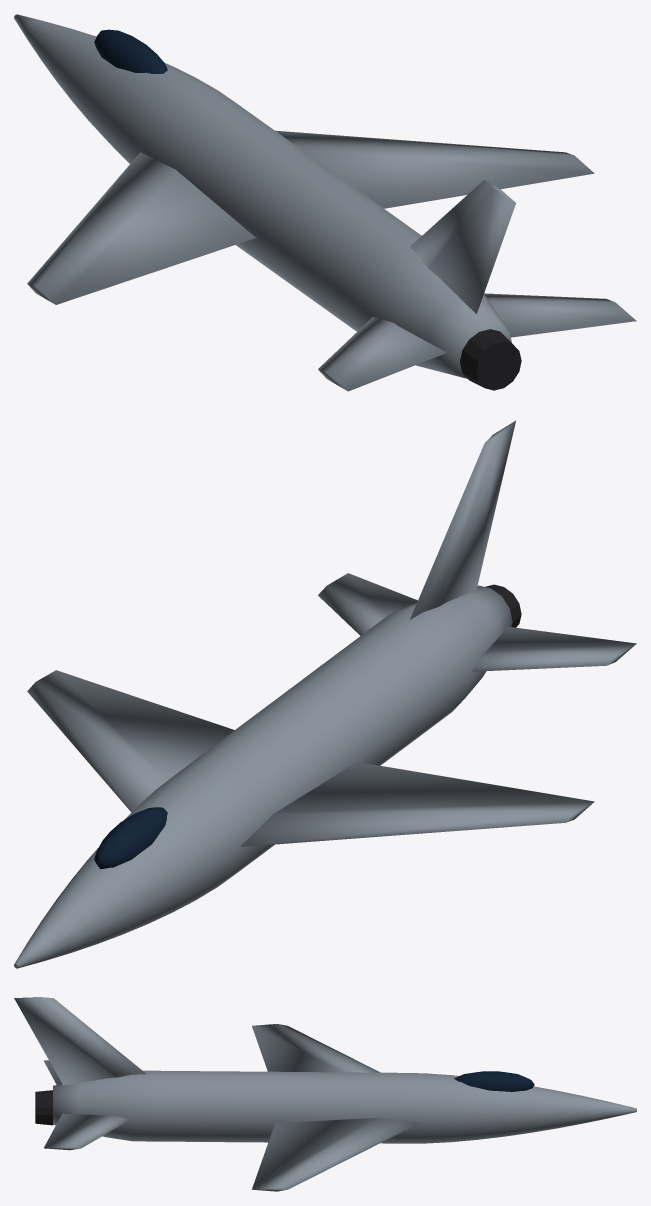
3 views of the same model, one above another, from view 1: azimuth 30°, elevation 25°; view 2: azimuth 150°, elevation 25°; view 3: azimuth 270°, elevation 25° (orthographic). The views are drawn at different scales.
Visible parts, largest first — view 1: Body, Detail, Canopy; view 2: Body, Canopy; view 3: Body, Canopy, Detail.
Part boxes in pixels (x1=…): Body: x1=14, y1=14, x2=636, y2=391; Detail: x1=460, y1=329, x2=521, y2=390; Canopy: x1=94, y1=29, x2=167, y2=73; Body: x1=14, y1=420, x2=636, y2=968; Canopy: x1=94, y1=807, x2=167, y2=869; Body: x1=14, y1=997, x2=636, y2=1191; Canopy: x1=454, y1=1071, x2=534, y2=1091; Detail: x1=35, y1=1090, x2=52, y2=1125.
Bounding box in the file's own units: 9.96 × 4.03 × 16.
